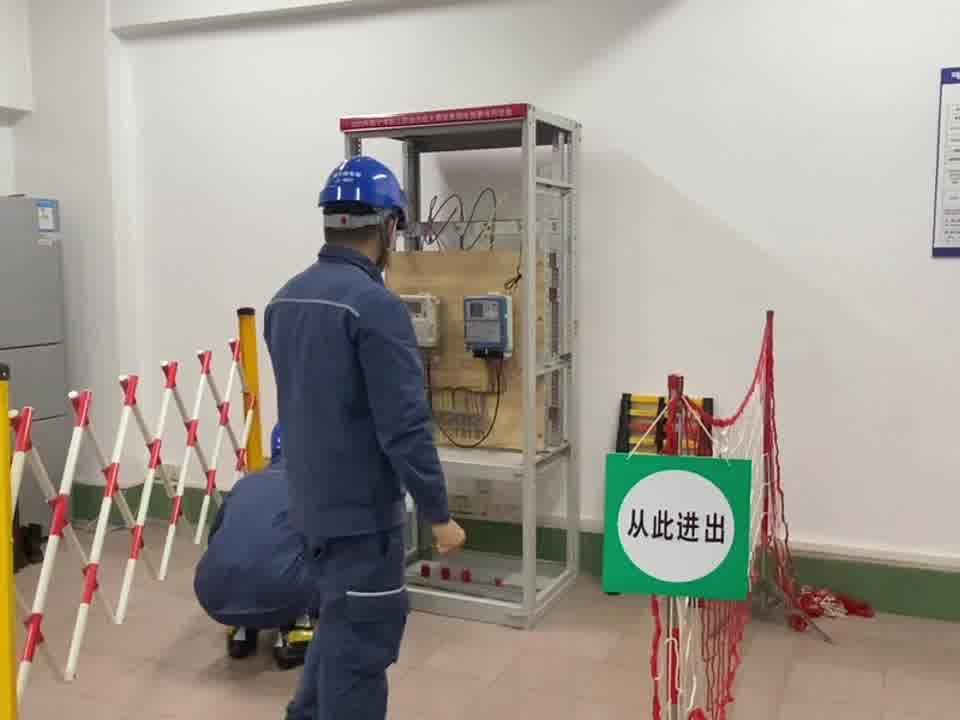downsuit: (267, 535, 410, 720)
halt: (316, 153, 410, 256)
hand: (432, 519, 466, 559)
intosign: (606, 452, 748, 597)
person: (234, 151, 473, 720)
shoe: (272, 615, 315, 672), (223, 624, 251, 657)
upsuit: (253, 260, 449, 534), (199, 462, 304, 608)
